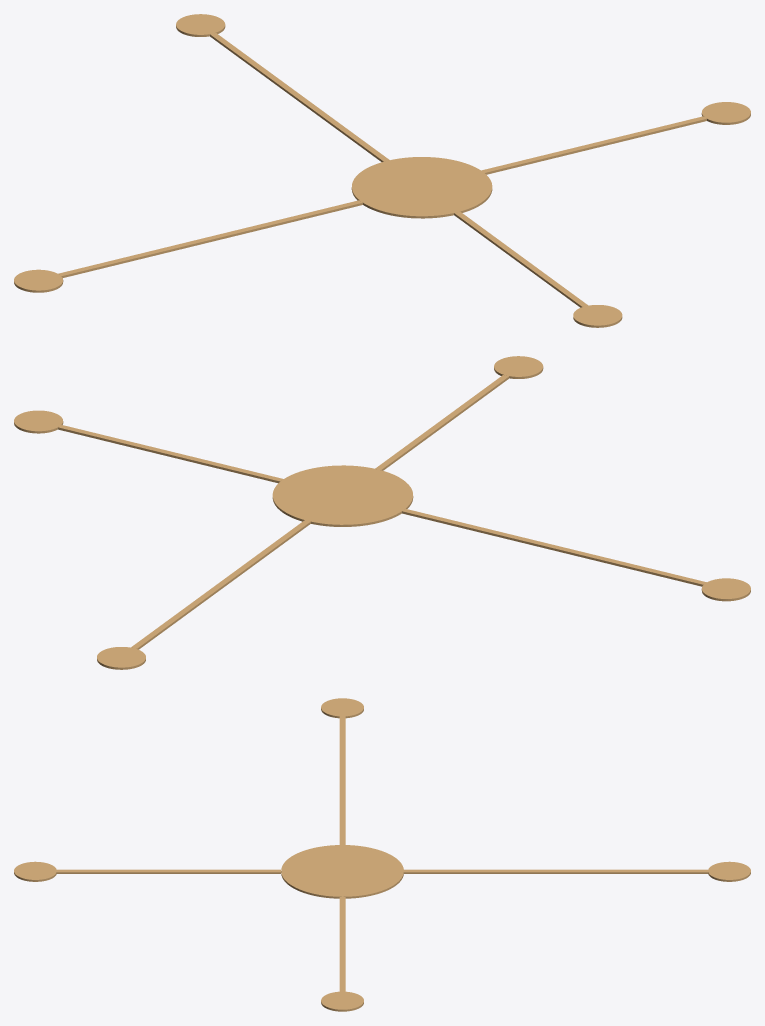
The model's file is board.glb.
3 views of the same model, one above another, from view 1: azimuth 30°, elevation 25°; view 2: azimuth 150°, elevation 25°; view 3: azimuth 270°, elevation 25° (orthographic). The views are drawn at different scales.
Parts seen in each view (by area): view 1: Unified_Net_1_Island_2, Unified_Net_4_Island_6, Unified_Net_2_Island_7, Unified_Net_3_Island_4, Unified_Net_1_Island_1, Unified_Net_4_Island_5, Unified_Net_1_Island_0, Unified_Net_3_Island_3, Unified_Net_2_Island_8; view 2: Unified_Net_1_Island_2, Unified_Net_4_Island_6, Unified_Net_2_Island_7, Unified_Net_3_Island_4, Unified_Net_1_Island_1, Unified_Net_4_Island_5, Unified_Net_3_Island_3, Unified_Net_2_Island_8, Unified_Net_1_Island_0; view 3: Unified_Net_1_Island_2, Unified_Net_2_Island_7, Unified_Net_1_Island_1, Unified_Net_4_Island_6, Unified_Net_3_Island_3, Unified_Net_1_Island_0, Unified_Net_2_Island_8, Unified_Net_4_Island_5, Unified_Net_3_Island_4.
Part boxes in pixels (left/top/right/bottom): Unified_Net_1_Island_2: left=351, top=157, right=492, bottom=218; Unified_Net_4_Island_6: left=58, top=200, right=362, bottom=277; Unified_Net_2_Island_7: left=210, top=33, right=389, bottom=161; Unified_Net_3_Island_4: left=481, top=116, right=706, bottom=174; Unified_Net_1_Island_1: left=454, top=211, right=588, bottom=307; Unified_Net_4_Island_5: left=14, top=269, right=63, bottom=292; Unified_Net_1_Island_0: left=573, top=305, right=622, bottom=327; Unified_Net_3_Island_3: left=701, top=102, right=750, bottom=124; Unified_Net_2_Island_8: left=176, top=14, right=225, bottom=36; Unified_Net_1_Island_2: left=272, top=465, right=413, bottom=526; Unified_Net_4_Island_6: left=402, top=508, right=706, bottom=586; Unified_Net_2_Island_7: left=131, top=520, right=310, bottom=649; Unified_Net_3_Island_4: left=58, top=425, right=283, bottom=483; Unified_Net_1_Island_1: left=375, top=375, right=509, bottom=470; Unified_Net_4_Island_5: left=701, top=578, right=750, bottom=601; Unified_Net_3_Island_3: left=14, top=410, right=63, bottom=433; Unified_Net_2_Island_8: left=97, top=647, right=145, bottom=669; Unified_Net_1_Island_0: left=494, top=356, right=543, bottom=378; Unified_Net_1_Island_2: left=281, top=845, right=403, bottom=898; Unified_Net_2_Island_7: left=404, top=869, right=707, bottom=873; Unified_Net_1_Island_1: left=57, top=869, right=280, bottom=873; Unified_Net_4_Island_6: left=339, top=716, right=345, bottom=844; Unified_Net_3_Island_3: left=321, top=991, right=363, bottom=1011; Unified_Net_1_Island_0: left=14, top=861, right=56, bottom=881; Unified_Net_2_Island_8: left=708, top=861, right=750, bottom=881; Unified_Net_4_Island_5: left=321, top=698, right=363, bottom=718; Unified_Net_3_Island_4: left=339, top=897, right=345, bottom=991.
Size of the model in its own units: 0.012 by 3.5e-05 by 0.012.
